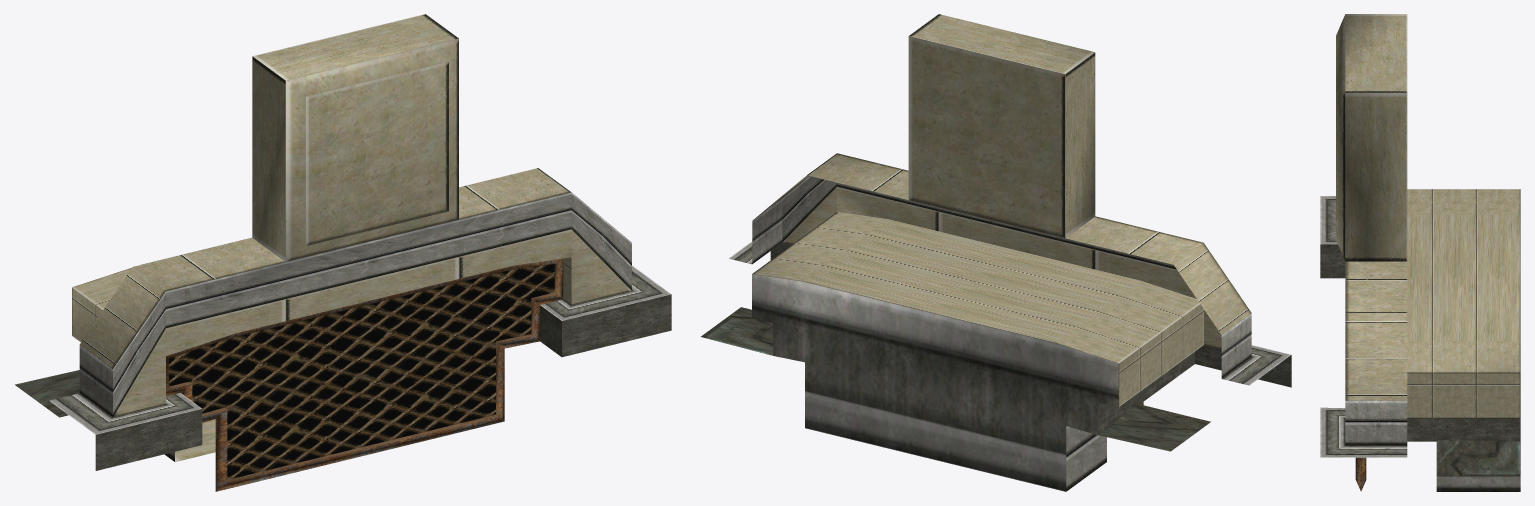
Rendered from DWARF_PALACE_WATERROOM_CANAL_VENT07.fbx.
3 renders of one model, left to right at view 1: azimuth 30°, elevation 25°; view 2: azimuth 150°, elevation 25°; view 3: azimuth 270°, elevation 25°, orthographic. The views are drawn at different scales.
Parts seen in each view (by area): view 1: DWARF_PALACE_WATERROOM_CANAL_VENT07; view 2: DWARF_PALACE_WATERROOM_CANAL_VENT07; view 3: DWARF_PALACE_WATERROOM_CANAL_VENT07.
Boxes of the visible parts, x1,y1,x2,y2 form: DWARF_PALACE_WATERROOM_CANAL_VENT07: (15, 14, 671, 491); DWARF_PALACE_WATERROOM_CANAL_VENT07: (701, 14, 1291, 491); DWARF_PALACE_WATERROOM_CANAL_VENT07: (1320, 14, 1520, 491).
Size of the model in its own units: 49831 by 33273 by 16097.
7 materials, 7 textured.
